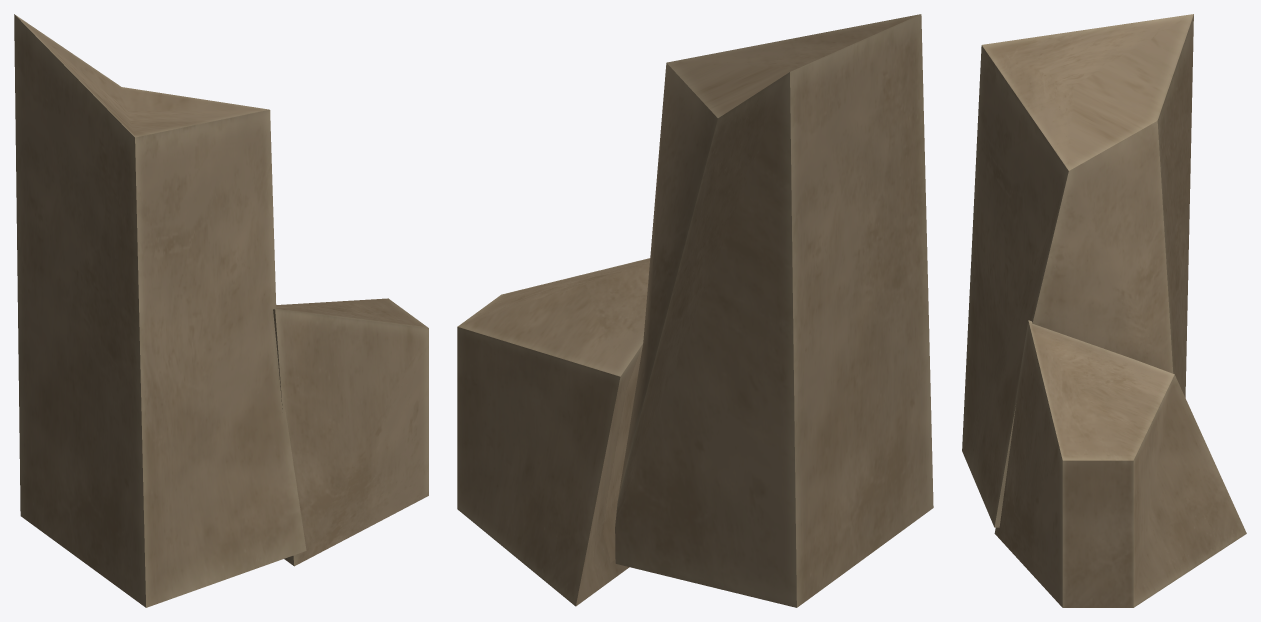
File: Rock_double.fbx
3 renders of one model, left to right at view 1: azimuth 30°, elevation 25°; view 2: azimuth 150°, elevation 25°; view 3: azimuth 270°, elevation 25°, orthographic. The views are drawn at different scales.
Visible parts, largest first — view 1: pCube3, pCube4; view 2: pCube3, pCube4; view 3: pCube3, pCube4.
Boxes of the visible parts, <box> form: pCube3: <box>14,14,306,607</box>; pCube4: <box>273,298,428,566</box>; pCube3: <box>615,14,933,607</box>; pCube4: <box>457,258,650,606</box>; pCube3: <box>962,14,1193,527</box>; pCube4: <box>994,320,1246,607</box>.
Bounding box in the file's own units: 3.32 × 4.76 × 2.74.
Materials: 1 (1 with a texture image).
